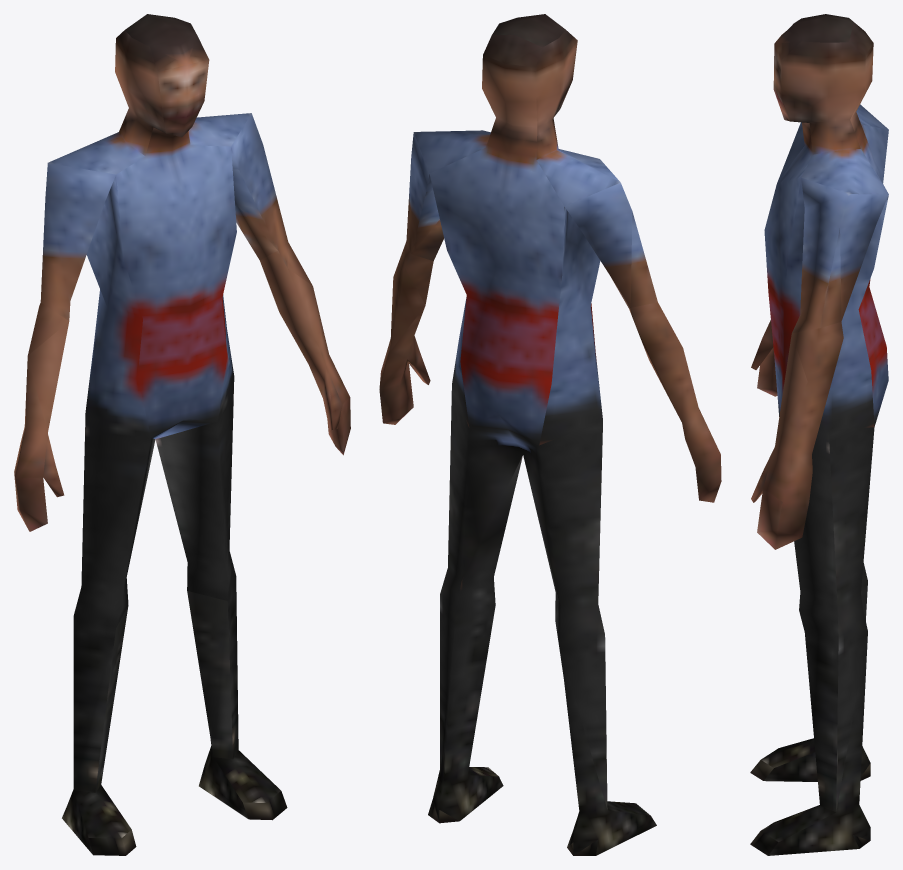
File: Man1.obj
3 renders of one model, left to right at view 1: azimuth 30°, elevation 25°; view 2: azimuth 150°, elevation 25°; view 3: azimuth 270°, elevation 25°, orthographic.
Parts seen in each view (by area): view 1: Humanoid_Monster; view 2: Humanoid_Monster; view 3: Humanoid_Monster.
Part boxes in pixels (<box>): Humanoid_Monster: <box>14,14,350,855</box>; Humanoid_Monster: <box>379,14,721,855</box>; Humanoid_Monster: <box>750,14,888,855</box>.
Size of the model in its own units: 0.7978 by 1.8 by 0.2867.
